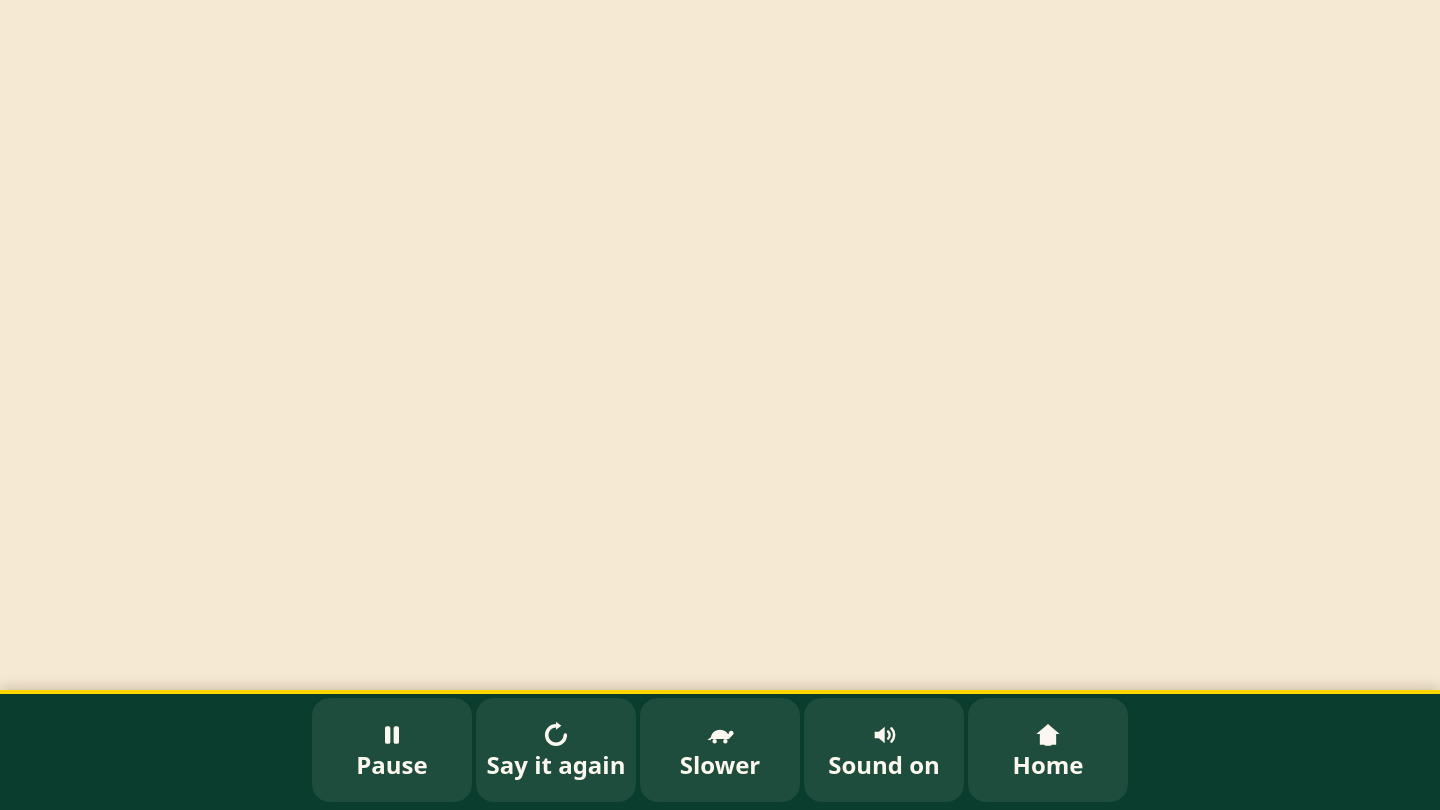
Controls › slows down and says so in words
Click the button "Slower" at point(720, 750), box [640,698,800,802]
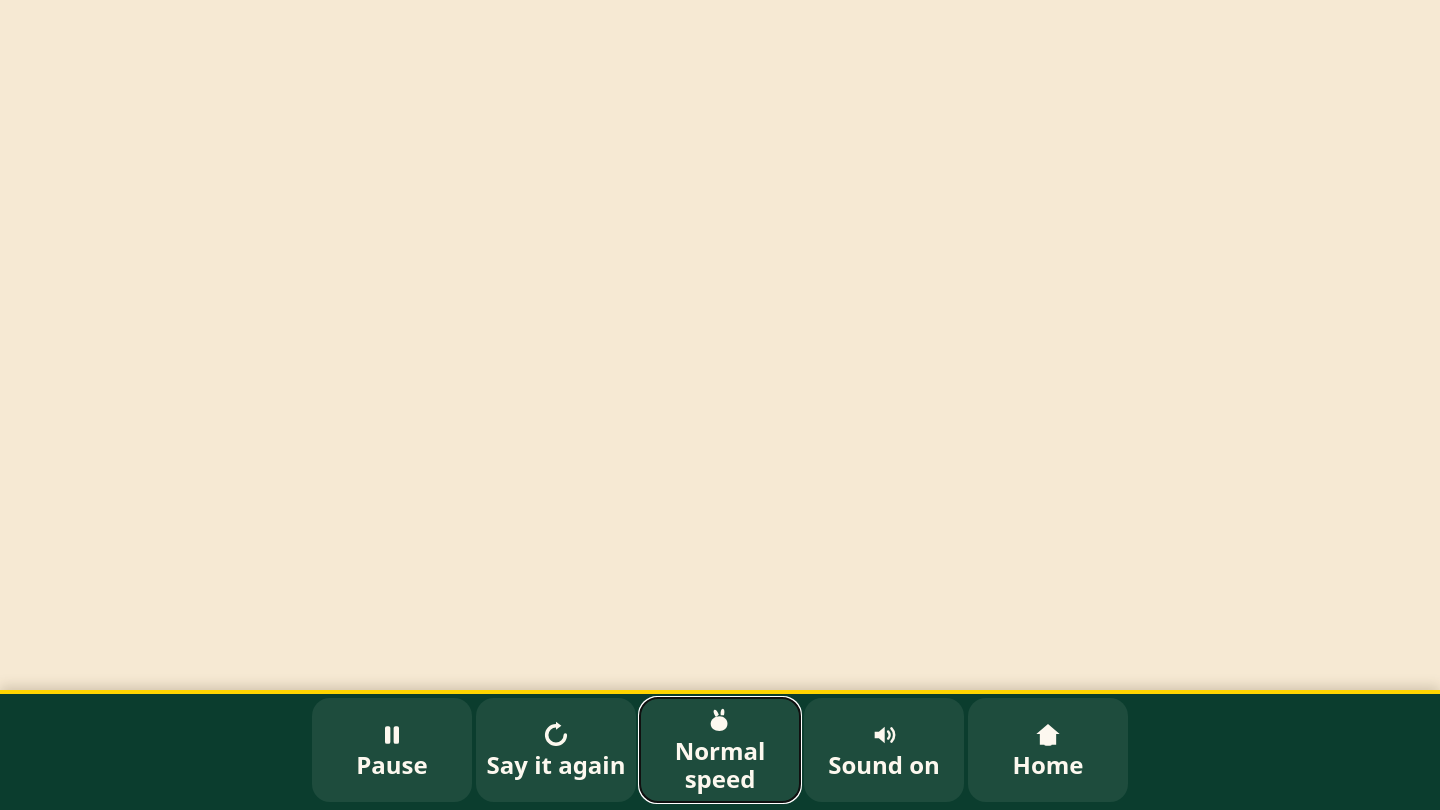
Now the button "Normal speed" is shown, box [640,698,800,802]
